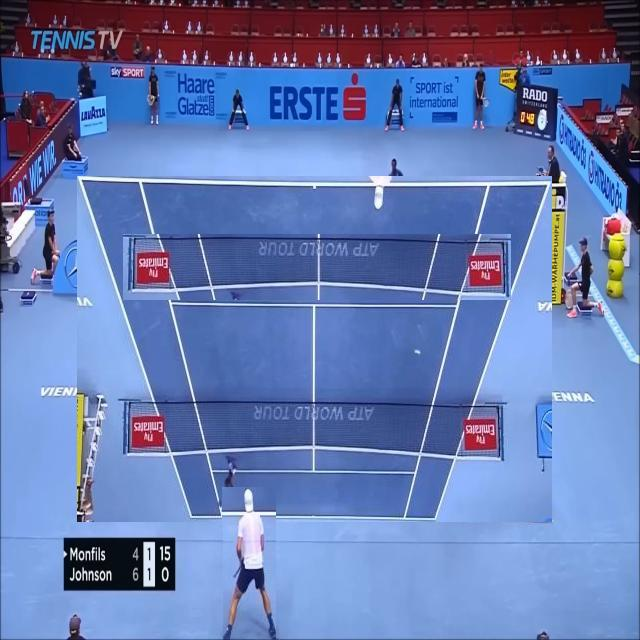court: (78, 177, 554, 522)
net: (124, 234, 511, 300)
player: (224, 487, 278, 640)
